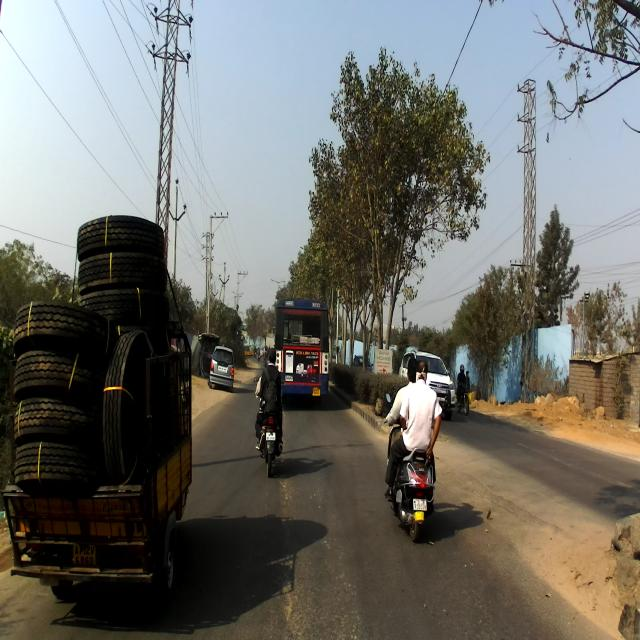bus ahead at: (278, 295, 328, 411)
car ahead at: (209, 341, 240, 396)
motorcycle ahead at: (387, 446, 448, 543), (257, 414, 288, 474)
truck ahead at: (0, 218, 196, 634)
